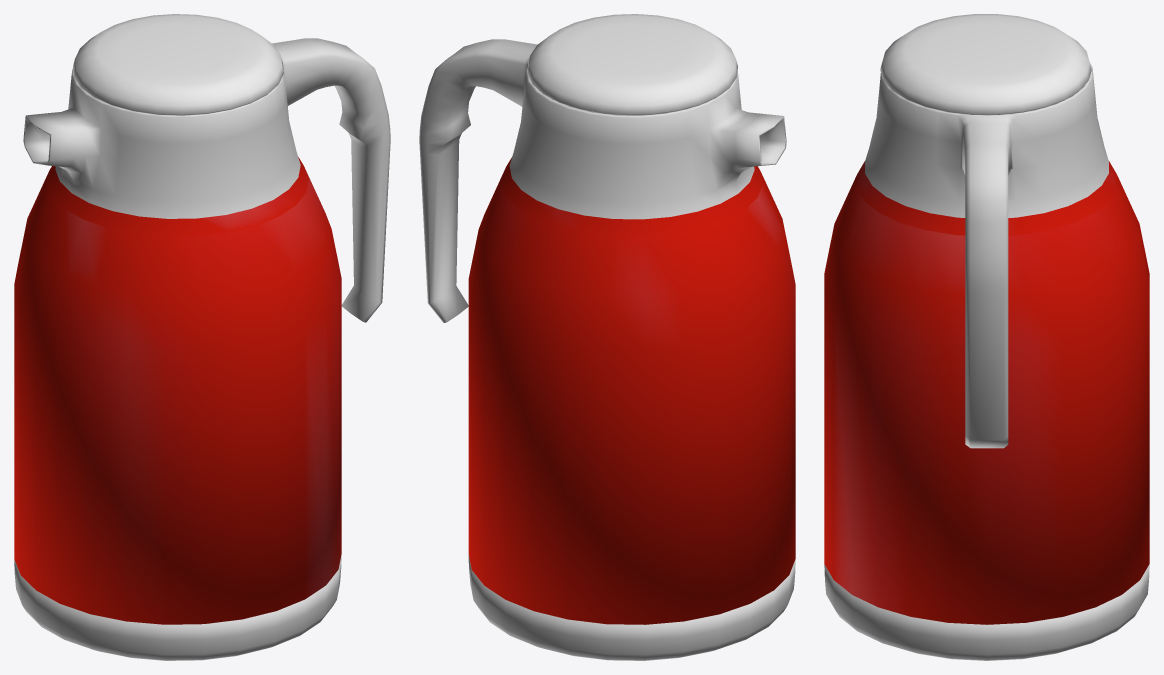
The model's file is coffee_thermos.fbx.
The picture shows the model from 3 angles, left to right: view 1: azimuth 30°, elevation 25°; view 2: azimuth 150°, elevation 25°; view 3: azimuth 270°, elevation 25°; orthographic projection.
Parts seen in each view (by area): view 1: Cylinder, cap; view 2: Cylinder, cap; view 3: Cylinder, cap.
Boxes of the visible parts, left/top/right/bottom form: Cylinder: left=14, top=38, right=390, bottom=660; cap: left=73, top=14, right=283, bottom=115; Cylinder: left=419, top=39, right=795, bottom=660; cap: left=527, top=14, right=737, bottom=115; Cylinder: left=824, top=63, right=1149, bottom=660; cap: left=880, top=14, right=1091, bottom=114.
Bounding box in the file's own units: 17.35 × 26.15 × 14.02.
